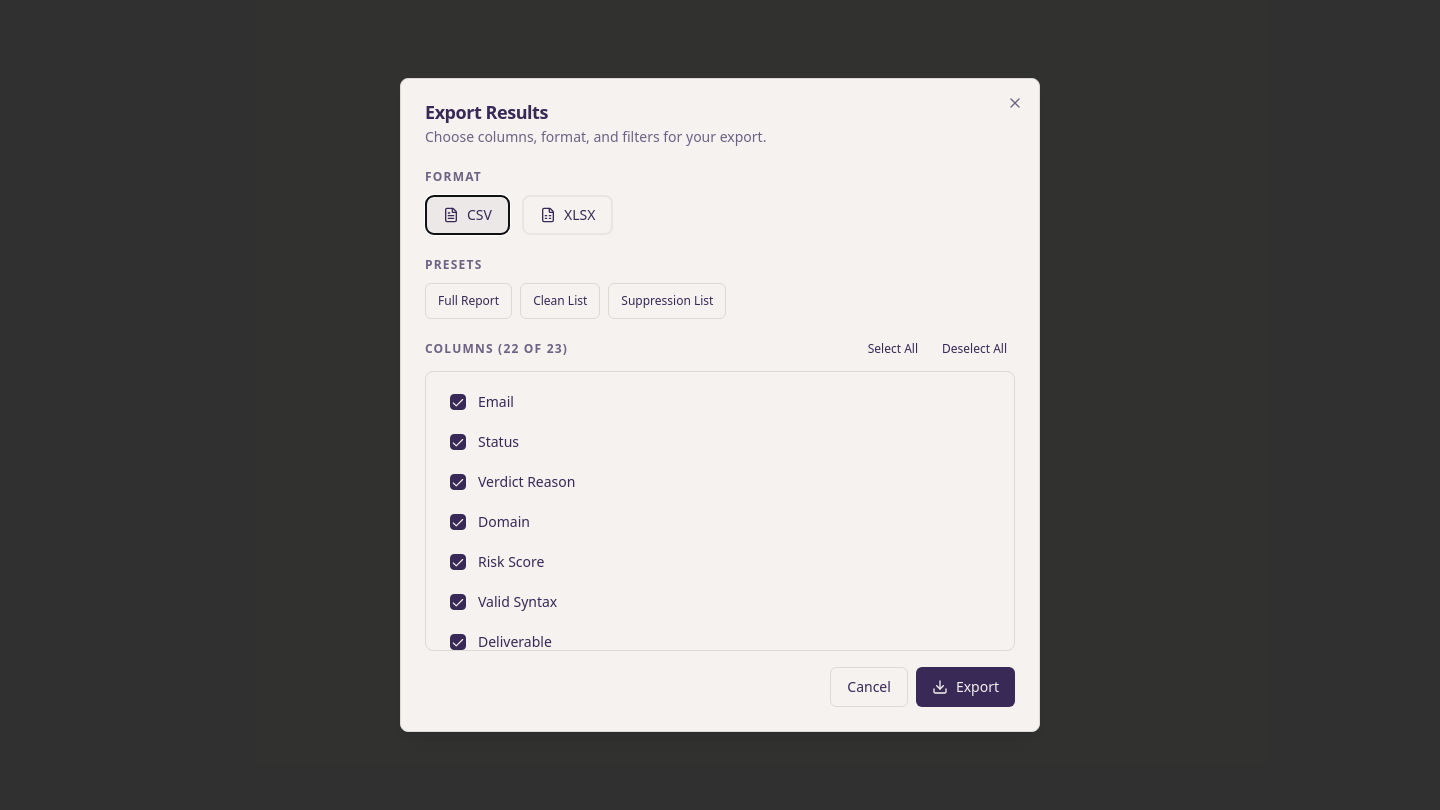
Test: ExportDialog › Deselect All disables every column
The image size is (1440, 810).
Click the button "Deselect All" at (974, 349), box [934, 335, 1015, 363]
(page scrolled)
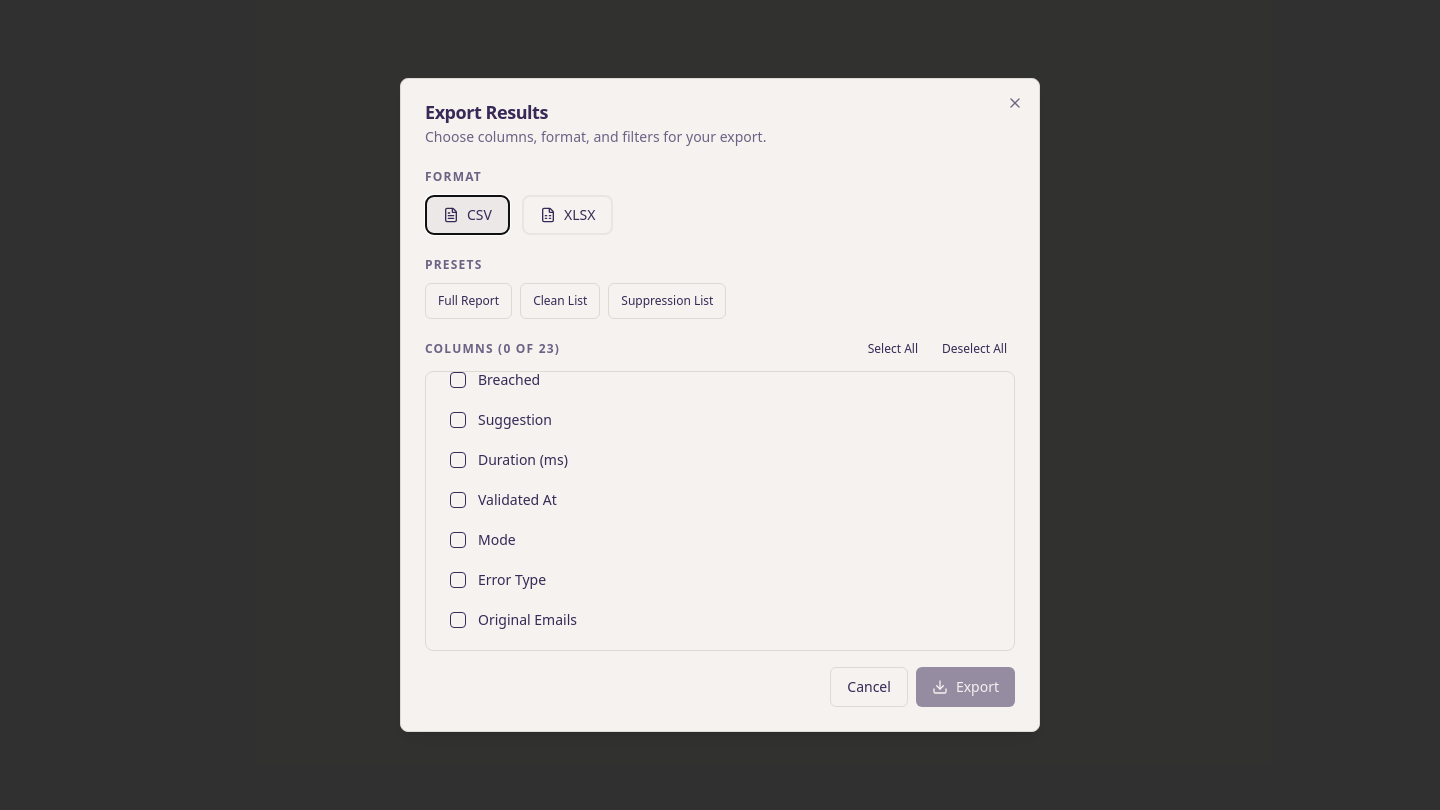
Expected: the checkbox next to "Breached" is not checked, [450, 372, 466, 388]
Expected: the checkbox next to "Suggestion" is not checked, [450, 412, 466, 428]
Expected: the checkbox next to "Duration (ms)" is not checked, [450, 452, 466, 468]
